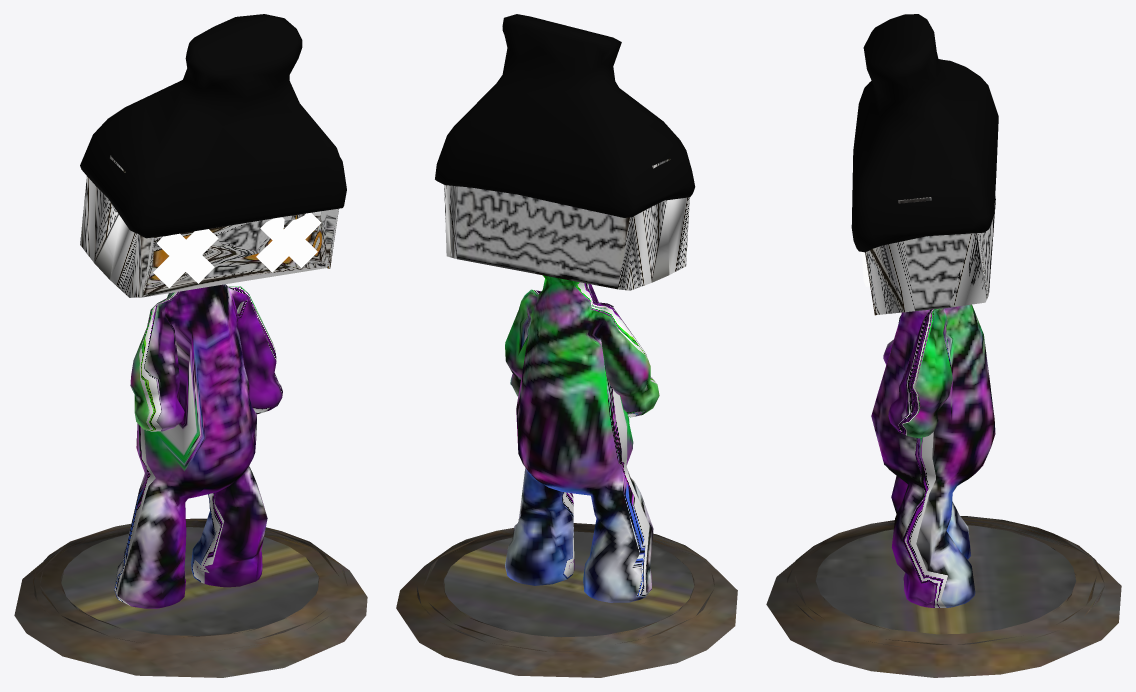
3 renders of one model, left to right at view 1: azimuth 30°, elevation 25°; view 2: azimuth 150°, elevation 25°; view 3: azimuth 270°, elevation 25°, orthographic. The views are drawn at different scales.
Size of the model in its own units: 1.44 by 2.61 by 1.43.
Materials: 6 (4 with a texture image).
